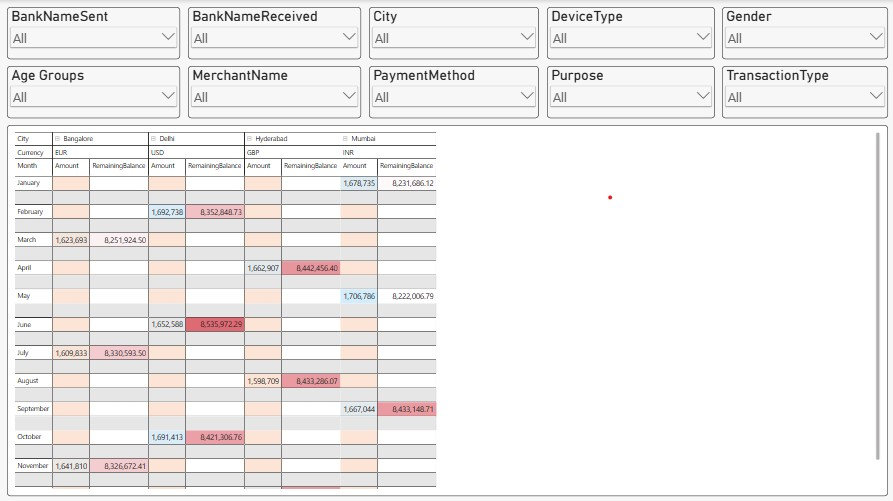

This screenshot's page, from the dashboard's own definition file:
{"tool":"powerbi","page":{"name":"Page 2","canvas":[1920,1080],"ordinal":1},"visuals":[{"type":"slicer","fields":{"Values":["UPI Transections.BankNameSent"]},"box":[27.6,14.9,367.8,110.6],"z":0},{"type":"slicer","fields":{"Values":["UPI Transections.BankNameReceived"]},"box":[412.4,14.9,367.8,110.6],"z":1000},{"type":"slicer","fields":{"Values":["UPI Transections.City"]},"box":[797.2,14.9,361.4,110.6],"z":2000},{"type":"slicer","fields":{"Values":["UPI Transections.DeviceType"]},"box":[1175.7,14.9,357.2,110.6],"z":3000},{"type":"slicer","fields":{"Values":["UPI Transections.Gender"]},"box":[1547.7,14.9,352.9,110.6],"z":4000},{"type":"slicer","fields":{"Values":["UPI Transections.Age Groups"]},"box":[27,139.7,367.8,110.6],"z":5000},{"type":"slicer","fields":{"Values":["UPI Transections.MerchantName"]},"box":[411.8,139.7,367.8,110.6],"z":6000},{"type":"slicer","fields":{"Values":["UPI Transections.PaymentMethod"]},"box":[796.6,139.7,361.4,110.6],"z":7000},{"type":"slicer","fields":{"Values":["UPI Transections.Purpose"]},"box":[1175,139.7,357.2,110.6],"z":8000},{"type":"slicer","fields":{"Values":["UPI Transections.TransactionType"]},"box":[1547.1,139.7,352.9,110.6],"z":9000},{"type":"pivotTable","fields":{"Columns":["UPI Transections.City","UPI Transections.Currency"],"Rows":["UPI Transections.TransactionDate.Variation.Date Hierarchy.Month"],"Values":["Sum(UPI Transections.Amount)","Sum(UPI Transections.RemainingBalance)"]},"box":[27.6,265.7,1873,788.7],"z":10000}]}

Visuals, with their boxes in screenshot pixels (x1, y1, x2, y2), scaled from the page's 1920x1080 canvas onto the 893x501 screenshot:
slicer - UPI Transections.BankNameSent: 13/7/184/58
slicer - UPI Transections.BankNameReceived: 192/7/363/58
slicer - UPI Transections.City: 371/7/539/58
slicer - UPI Transections.DeviceType: 547/7/713/58
slicer - UPI Transections.Gender: 720/7/884/58
slicer - UPI Transections.Age Groups: 13/65/184/116
slicer - UPI Transections.MerchantName: 192/65/363/116
slicer - UPI Transections.PaymentMethod: 371/65/539/116
slicer - UPI Transections.Purpose: 546/65/713/116
slicer - UPI Transections.TransactionType: 720/65/884/116
pivotTable - UPI Transections.City x UPI Transections.Currency: 13/123/884/489
